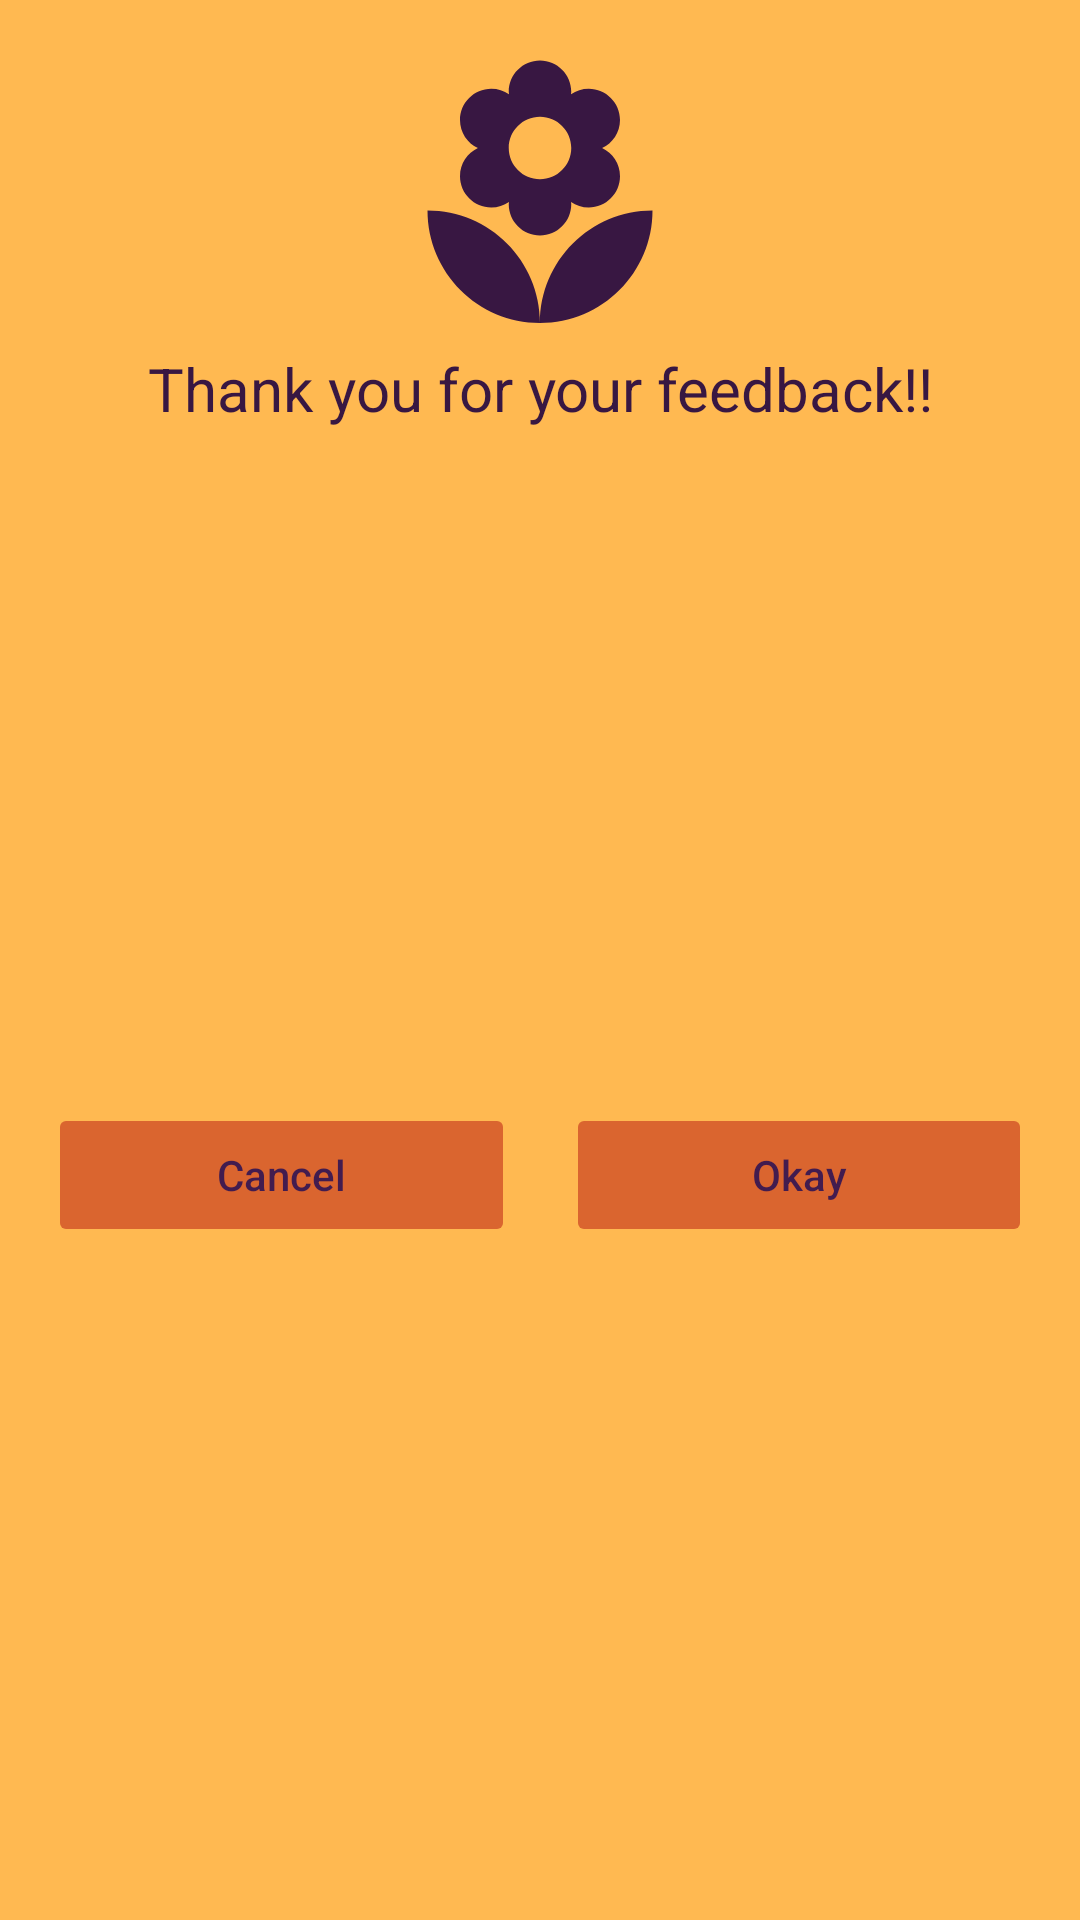

Named icons in this screenshot (1080w x 1920h) and their bounding boxes, (x1, y1, x2, y2):
flower: (427, 60, 653, 323)
